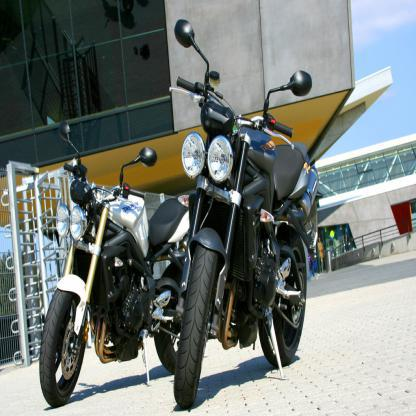motorcycle: (170, 22, 323, 408), (41, 122, 189, 409)
